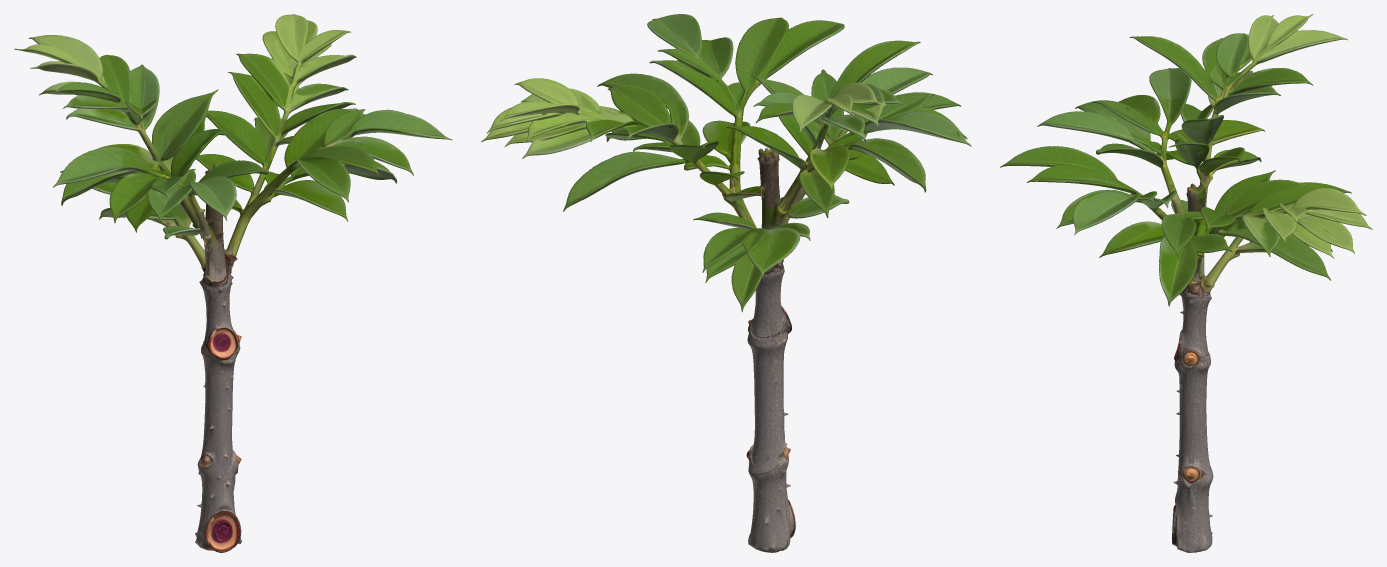
Rendered from jiangzhenxiang.glb.
3 views of the same model, side by side, from view 1: azimuth 30°, elevation 25°; view 2: azimuth 150°, elevation 25°; view 3: azimuth 270°, elevation 25° (orthographic). The views are drawn at different scales.
Parts seen in each view (by area): view 1: node_0; view 2: node_0; view 3: node_0.
Boxes of the visible parts, bbox=[...] form: node_0: bbox=[14, 14, 452, 552]; node_0: bbox=[481, 14, 971, 552]; node_0: bbox=[1000, 14, 1372, 552].
Size of the model in its own units: 0.7416 by 0.9483 by 0.6818.
1 material, 1 textured.
